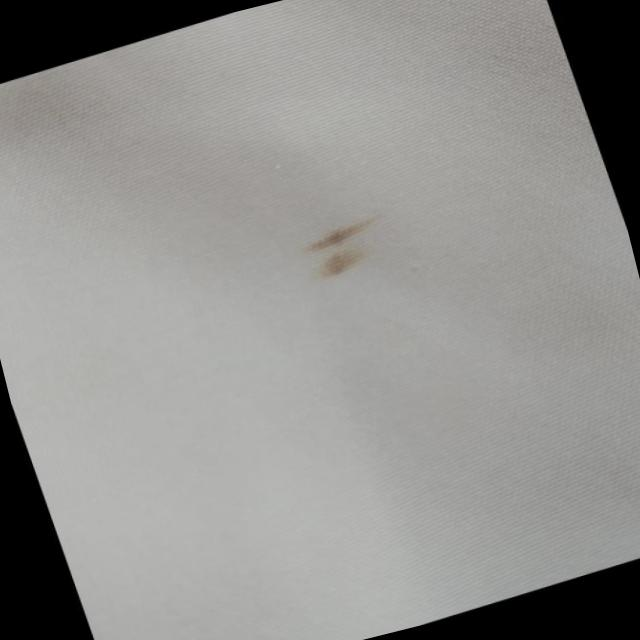stain: (289, 204, 402, 294)
